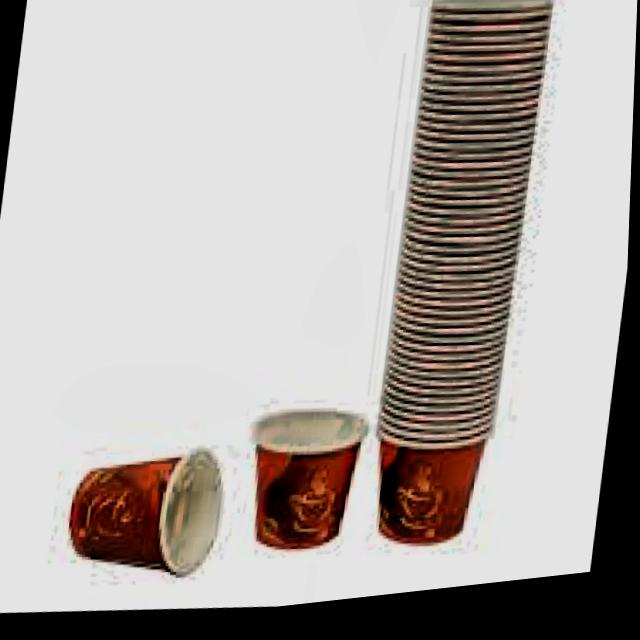Cup: (365, 0, 555, 577), (55, 440, 246, 600), (243, 407, 374, 563)
